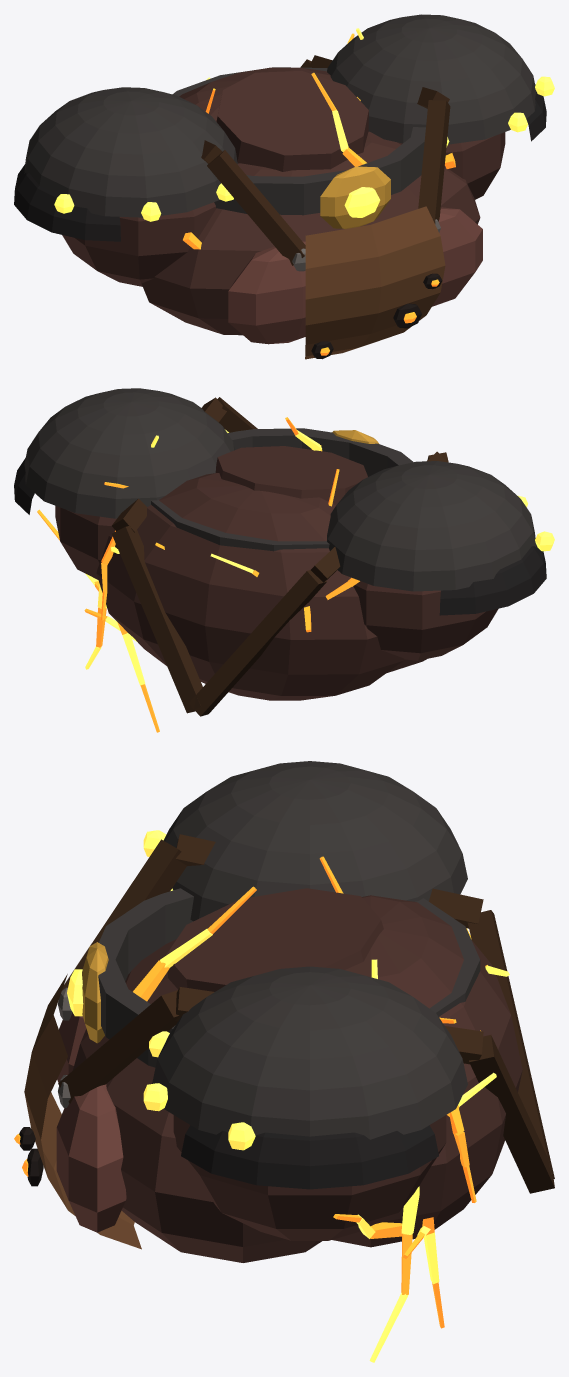
The model's file is ember_thane_chest.glb.
3 renders of one model, top to bottom at view 1: azimuth 30°, elevation 25°; view 2: azimuth 150°, elevation 25°; view 3: azimuth 270°, elevation 25°, orthographic. The views are drawn at different scales.
Parts seen in each view (by area): view 1: ember_thane_chest; view 2: ember_thane_chest; view 3: ember_thane_chest.
Boxes of the visible parts, bbox=[...] form: ember_thane_chest: bbox=[14, 14, 554, 359]; ember_thane_chest: bbox=[14, 388, 554, 732]; ember_thane_chest: bbox=[14, 761, 554, 1362].
Size of the model in its own units: 1.36 by 0.7232 by 0.8901.
